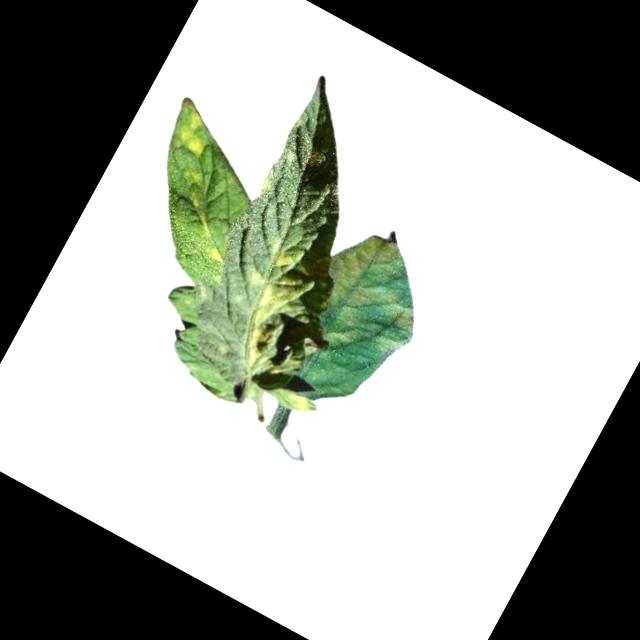Leaf_Mold: (298, 217, 447, 368), (210, 228, 331, 376), (171, 108, 218, 157)
